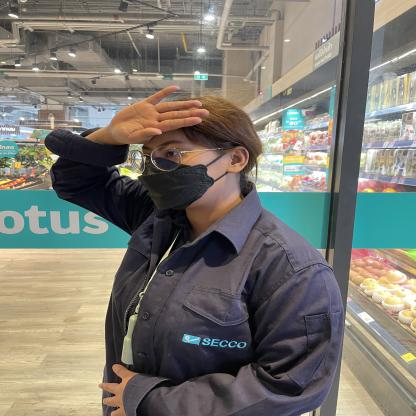Sick: (10, 74, 220, 154)
